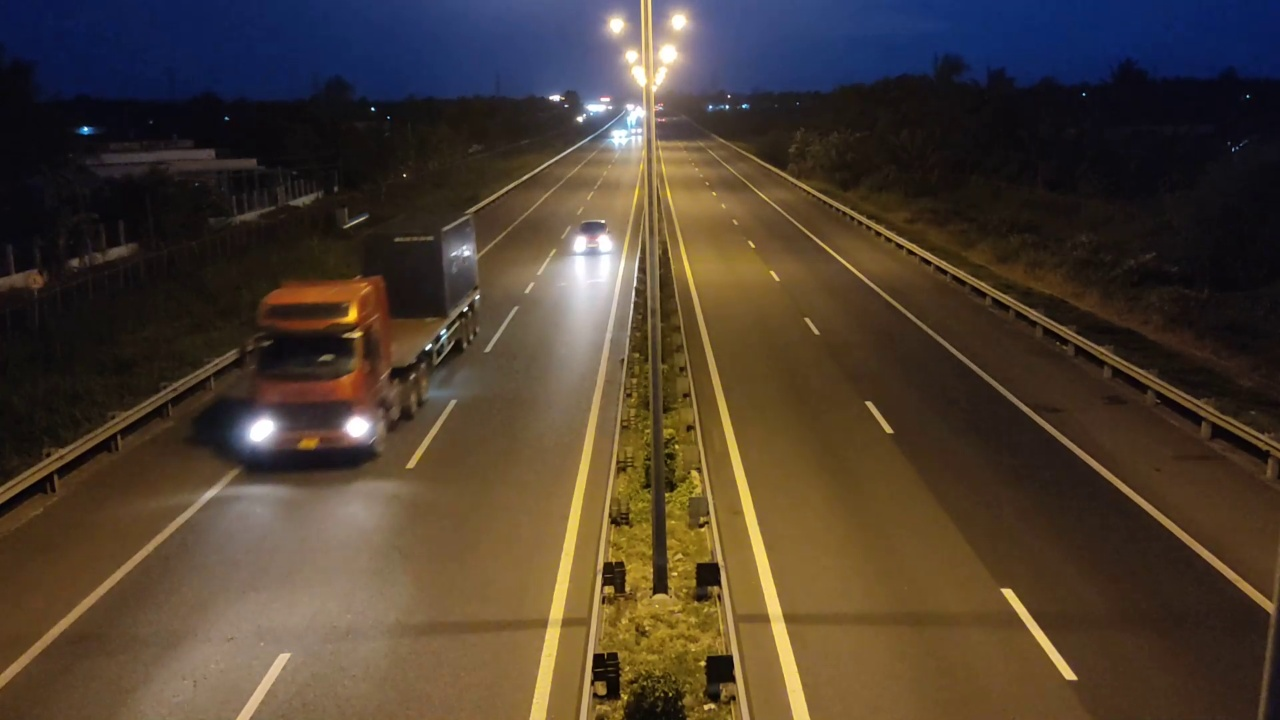car: (565, 220, 611, 256)
truck: (248, 200, 486, 480)
